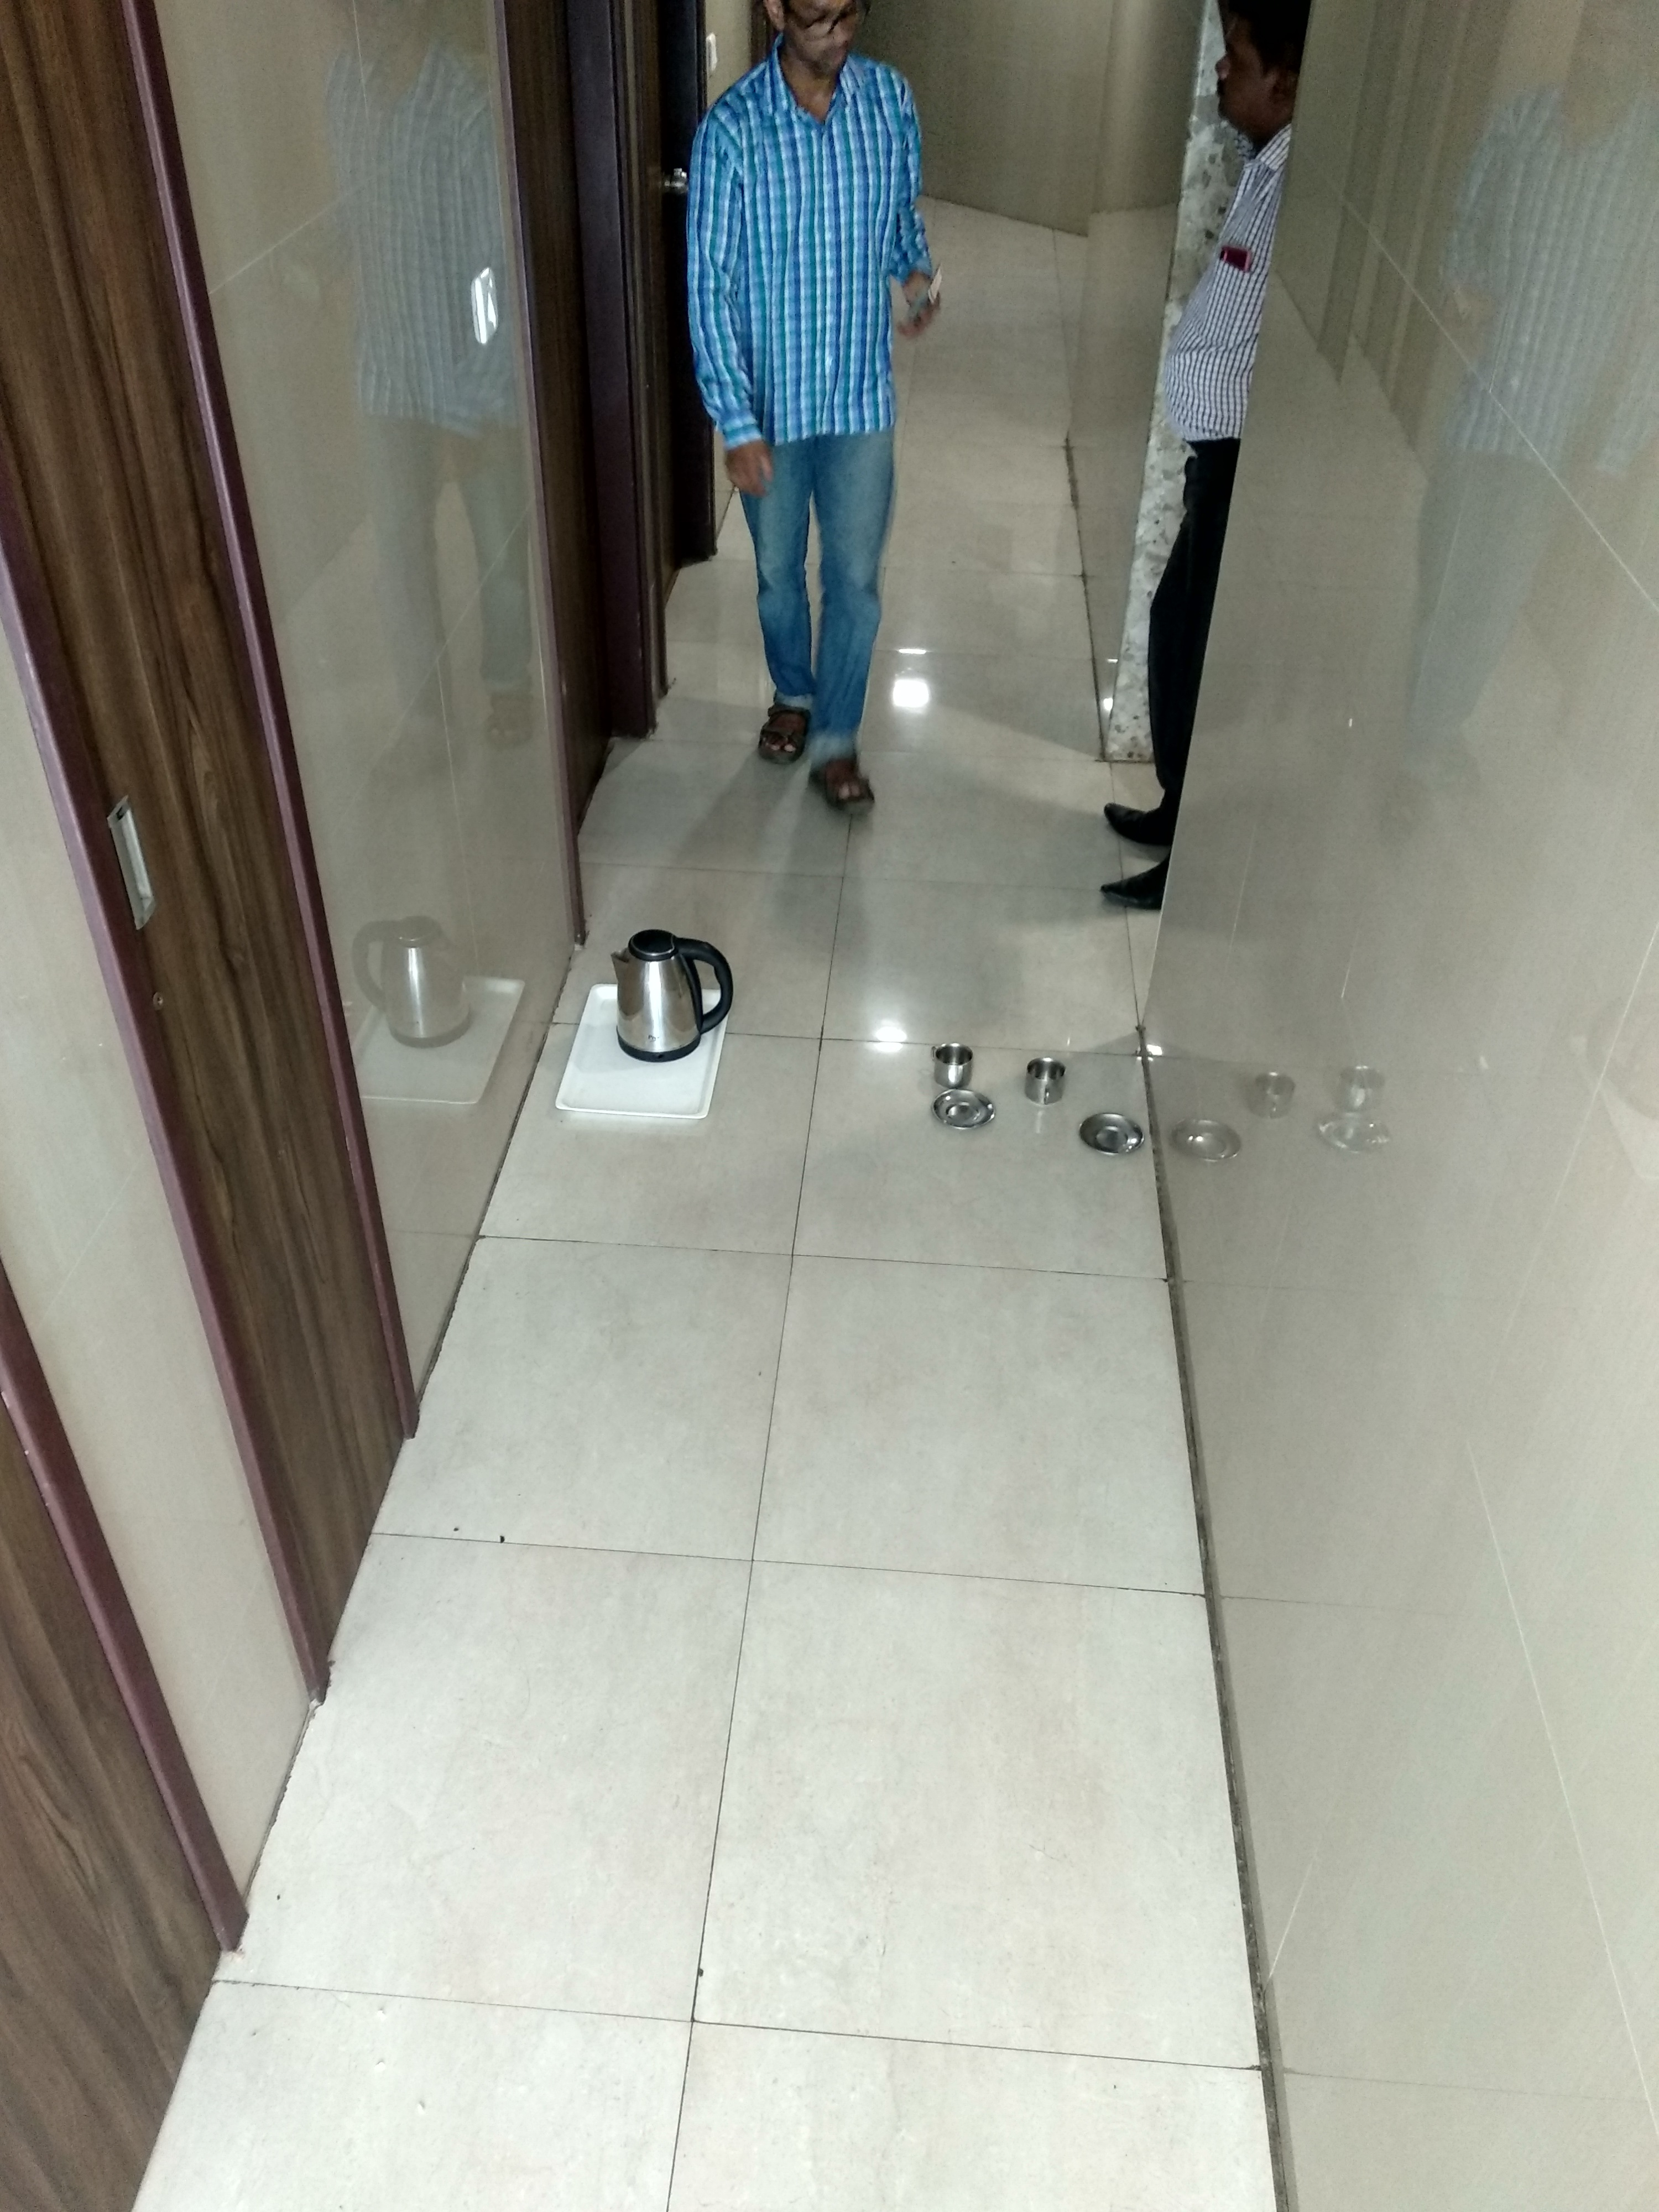CUP: (1030, 1054, 1070, 1108), (945, 1040, 974, 1085)
FLASK: (615, 941, 718, 1055)
